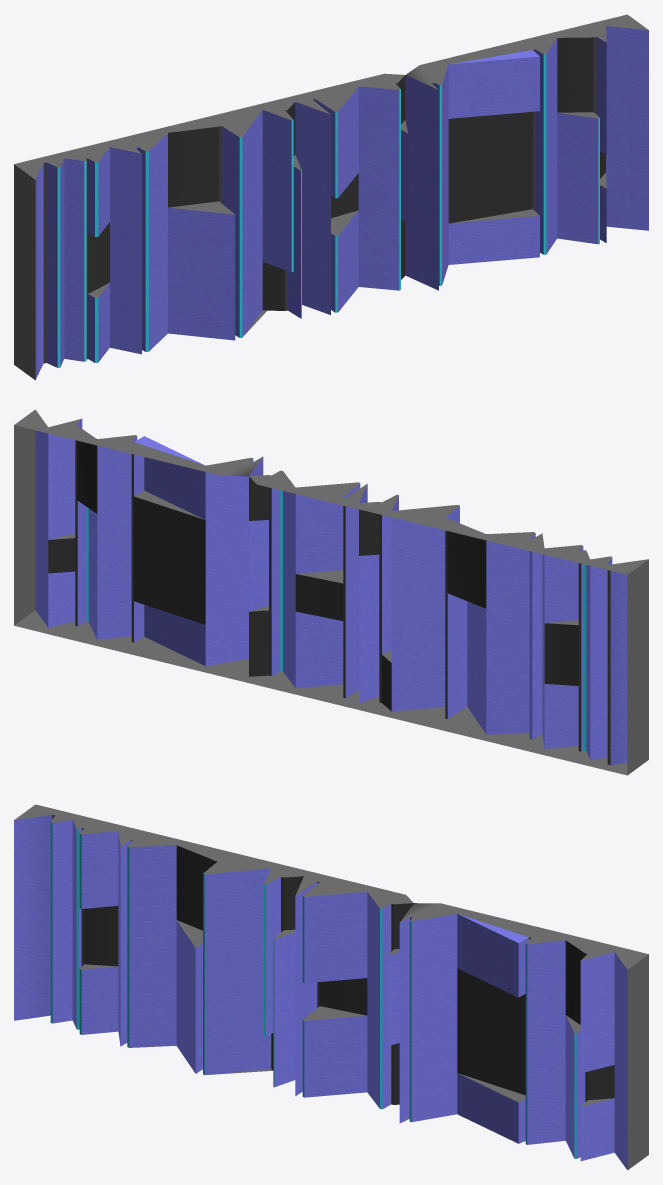
File: Wall_16x5x1_006_L0_Geometry.fbx
3 renders of one model, top to bottom at view 1: azimuth 30°, elevation 25°; view 2: azimuth 150°, elevation 25°; view 3: azimuth 330°, elevation 25°, orthographic.
Visible parts, largest first — view 1: Wall_16x5x1_006_L0_Geometry; view 2: Wall_16x5x1_006_L0_Geometry; view 3: Wall_16x5x1_006_L0_Geometry.
Boxes of the visible parts, x1,y1,x2,y2 form: Wall_16x5x1_006_L0_Geometry: (14, 14, 648, 380); Wall_16x5x1_006_L0_Geometry: (14, 409, 648, 775); Wall_16x5x1_006_L0_Geometry: (14, 804, 648, 1170).
Size of the model in its own units: 16 by 5 by 1.38.
